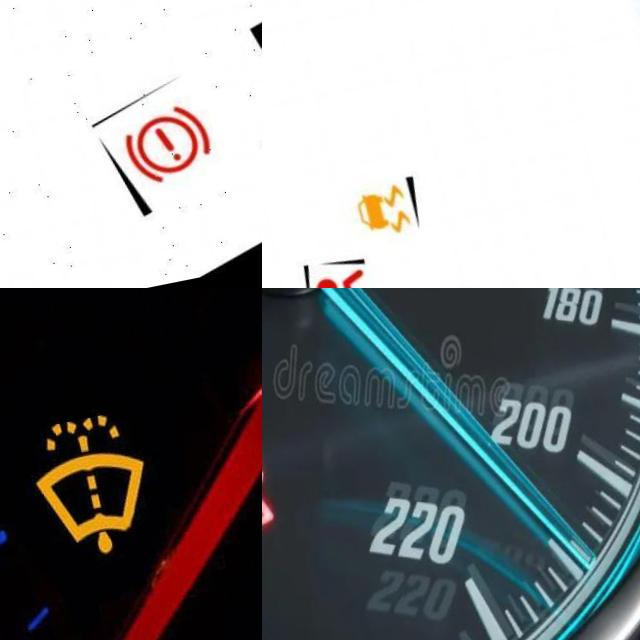Washer Fluid: (15, 422, 143, 574)
